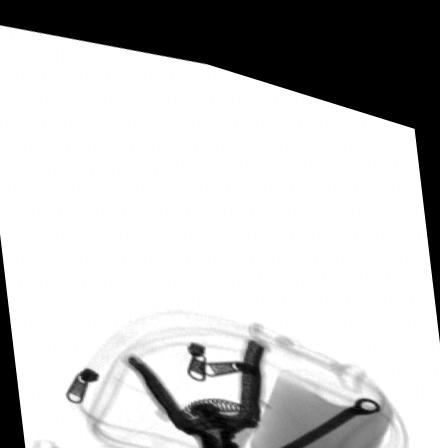Pliers: (126, 323, 264, 448)
Wrench: (241, 373, 381, 448)
